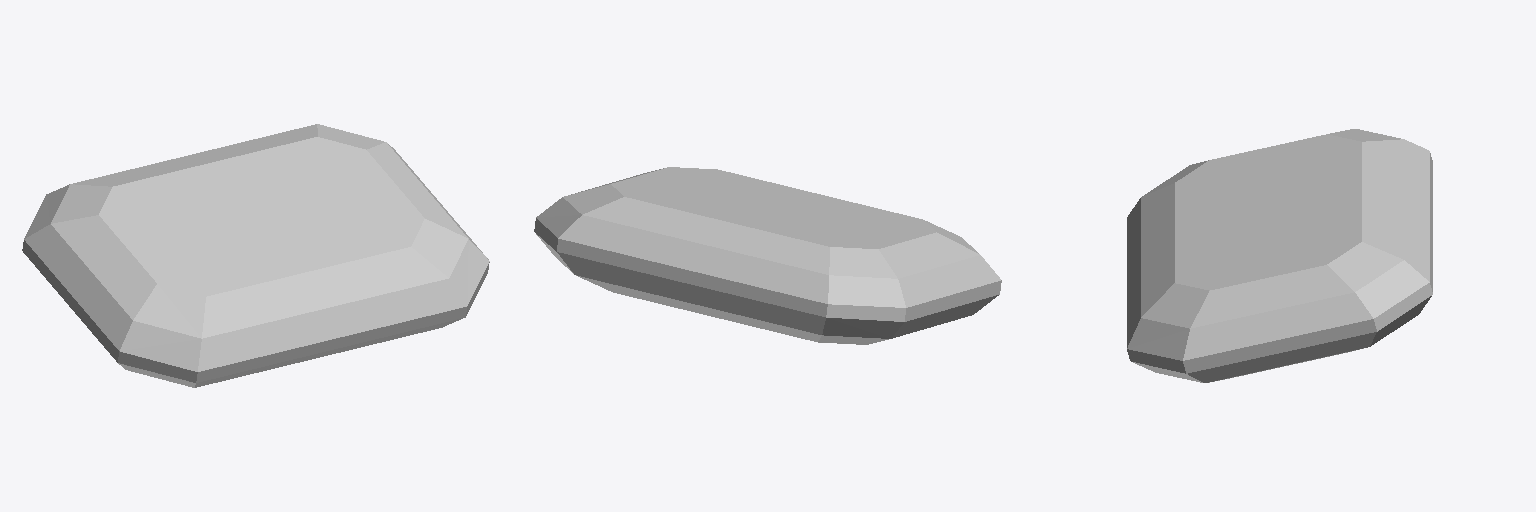
File: orange.obj
3 views of the same model, side by side, from view 1: azimuth 30°, elevation 25°; view 2: azimuth 150°, elevation 25°; view 3: azimuth 270°, elevation 25° (orthographic).
Parts seen in each view (by area): view 1: Gemstone_04.001; view 2: Gemstone_04.001; view 3: Gemstone_04.001.
Part boxes in pixels (bbox=[...]): Gemstone_04.001: bbox=[22, 124, 489, 387]; Gemstone_04.001: bbox=[534, 167, 1001, 344]; Gemstone_04.001: bbox=[1127, 129, 1432, 382].
Size of the model in its own units: 1.13 by 0.3744 by 0.8089.